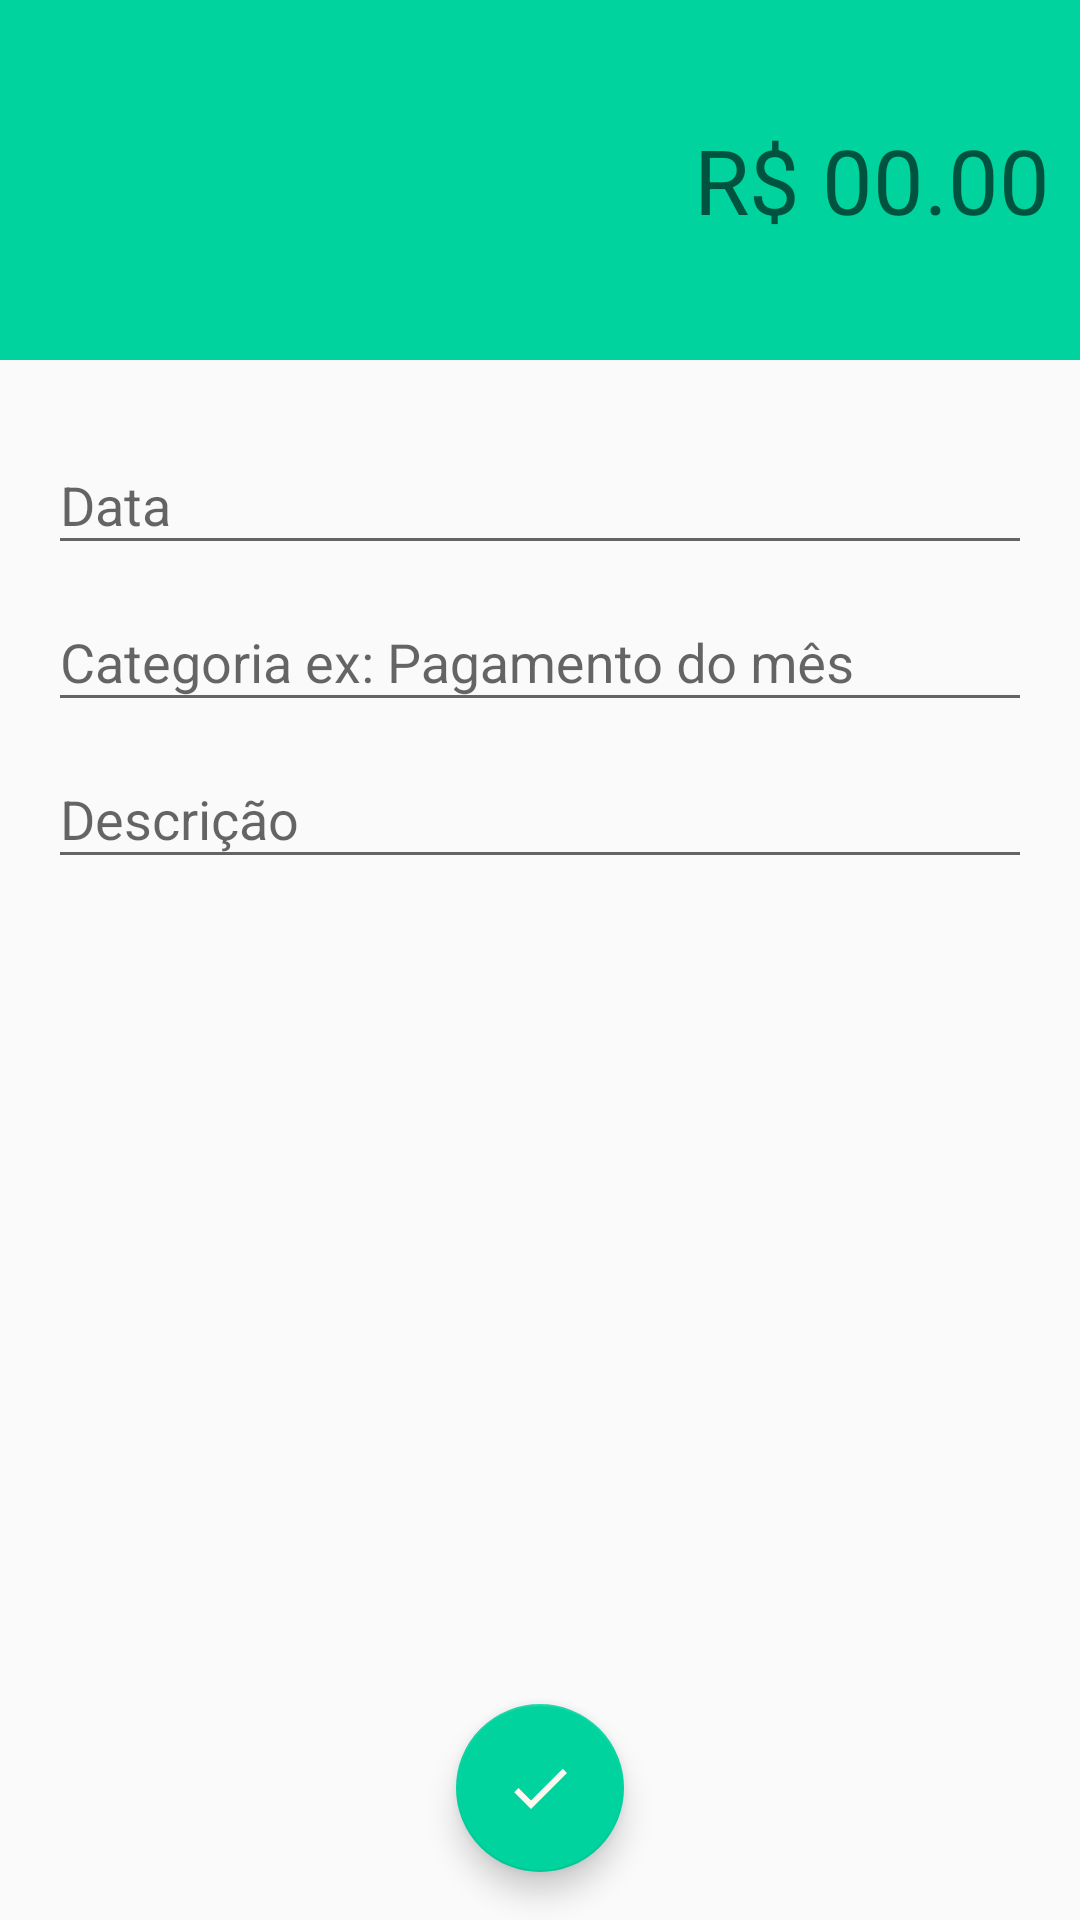

Locate icon controls on the screen. Image size 1080w x 1920h, boxes as (x1, y1, x2, y2).
confirmar branco: (456, 1704, 624, 1872)
